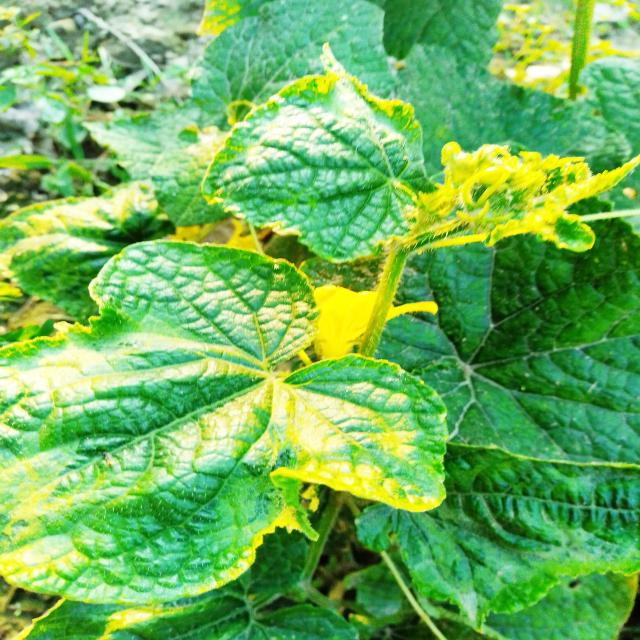Fresh-Leaf: (0, 239, 449, 608), (199, 71, 440, 263)
